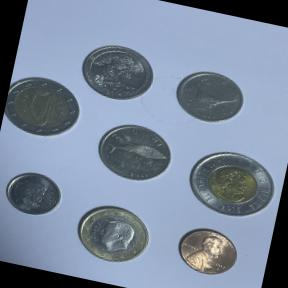coin: (175, 137, 284, 230), (64, 196, 160, 274), (86, 113, 180, 192), (0, 69, 87, 149), (74, 36, 165, 110), (167, 220, 246, 284), (0, 164, 67, 225)
